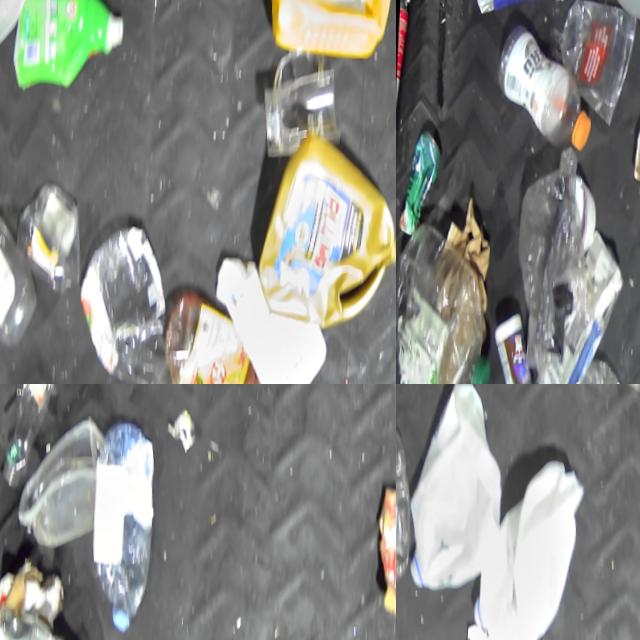can: (398, 126, 444, 237), (0, 606, 86, 640), (396, 0, 408, 152)
milk_jug: (471, 449, 587, 640), (405, 384, 509, 593), (16, 415, 106, 549), (0, 0, 48, 73)
non_white_jug: (258, 128, 396, 329), (10, 0, 126, 93), (261, 0, 396, 57), (590, 0, 640, 43)
plastic_bottle: (88, 416, 159, 632), (492, 18, 595, 151), (0, 384, 83, 492), (396, 401, 416, 582)
